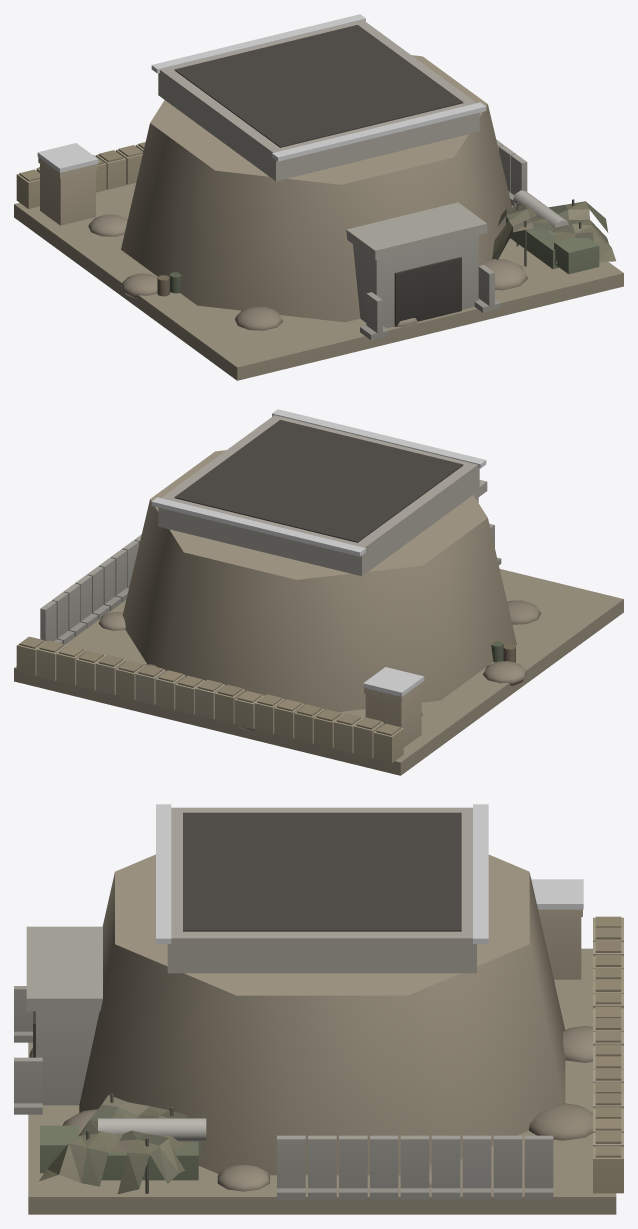
Rendered from m_uplink_07df67a0.glb.
The picture shows the model from 3 angles, top to bottom: view 1: azimuth 30°, elevation 25°; view 2: azimuth 150°, elevation 25°; view 3: azimuth 270°, elevation 25°; orthographic projection. The views are drawn at different scales.
Parts seen in each view (by area): view 1: mesh; view 2: mesh; view 3: mesh.
Boxes of the visible parts, x1,y1,x2,y2 form: mesh: [14, 14, 623, 380]; mesh: [14, 409, 623, 775]; mesh: [14, 804, 623, 1214].
Bounding box in the file's own units: 82.08 × 31.2 × 78.85.
